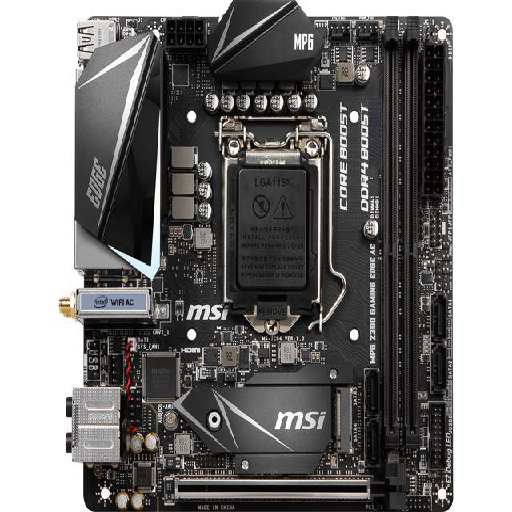CPU: (218, 116, 334, 333)
GPU: (175, 464, 409, 512)
MOTHERBOARD: (69, 2, 454, 510)
RAM: (379, 21, 428, 444)
